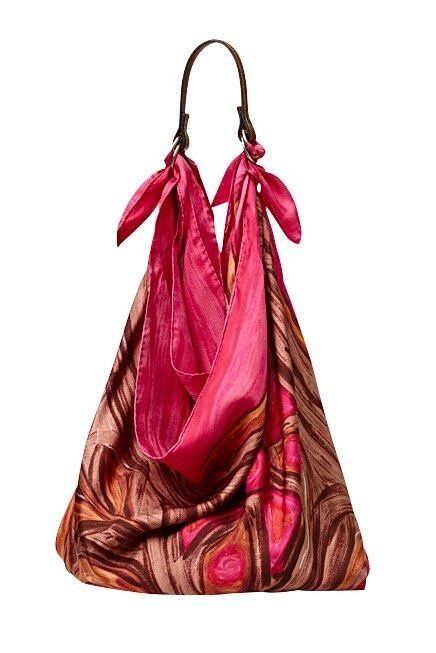nylon: (55, 159, 369, 596)
